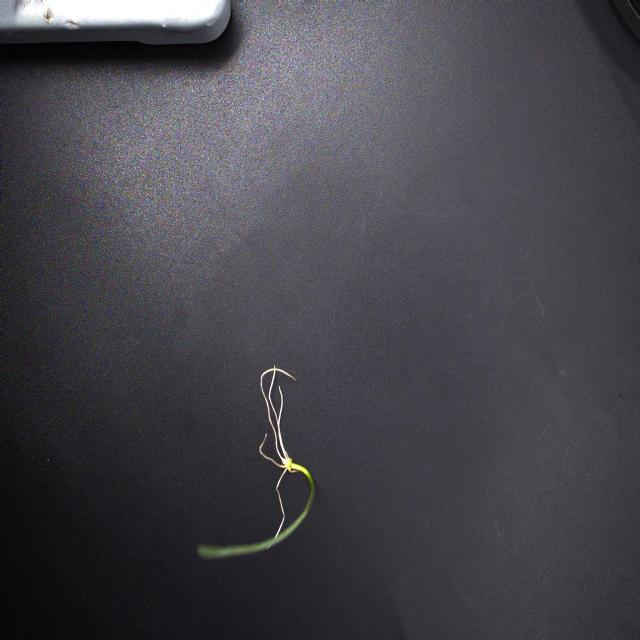root: (260, 365, 302, 539)
stem: (198, 463, 314, 559)
